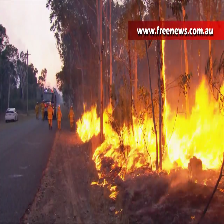fire_h: (93, 75, 224, 197), (76, 102, 113, 139), (92, 179, 118, 199)
fire_l: (114, 209, 123, 215)
